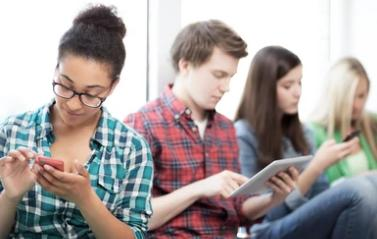phone: (122, 20, 312, 221), (0, 5, 151, 239), (239, 45, 361, 183)
